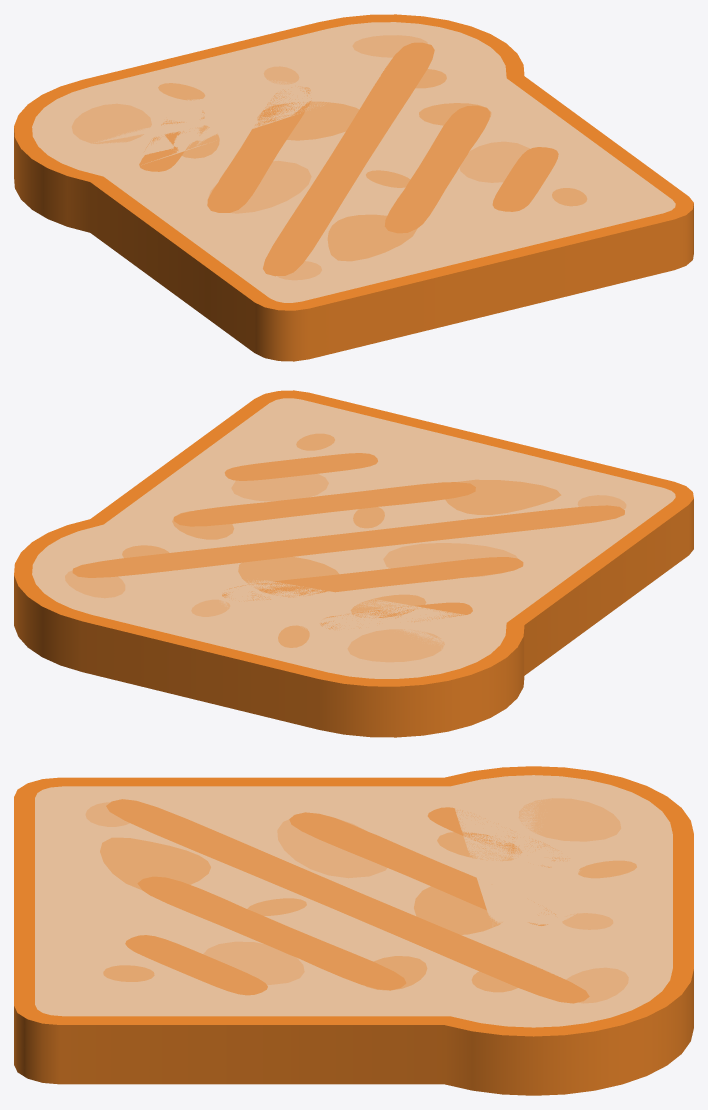
Rendered from Bread G.fbx.
3 views of the same model, one above another, from view 1: azimuth 30°, elevation 25°; view 2: azimuth 150°, elevation 25°; view 3: azimuth 270°, elevation 25° (orthographic). The views are drawn at different scales.
Visible parts, largest first — view 1: Bread G; view 2: Bread G; view 3: Bread G.
Part boxes in pixels (bbox=[...]): Bread G: bbox=[14, 14, 693, 361]; Bread G: bbox=[14, 390, 693, 737]; Bread G: bbox=[14, 766, 693, 1095].
Bounding box in the file's own units: 0.6767 × 0.0692 × 0.7193.
